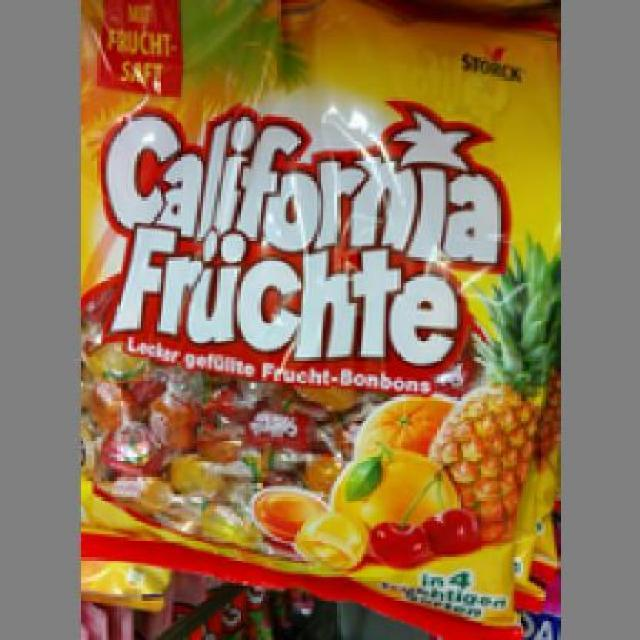Candy: (77, 0, 557, 637)
